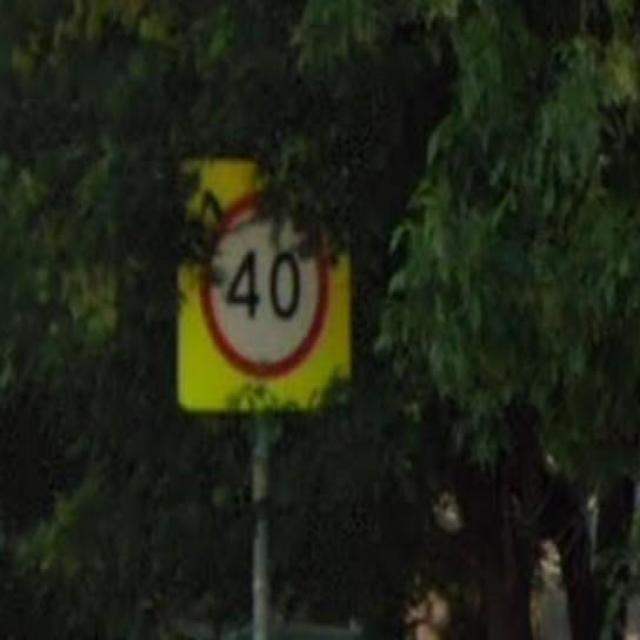traffic_sign: (198, 187, 330, 380)
